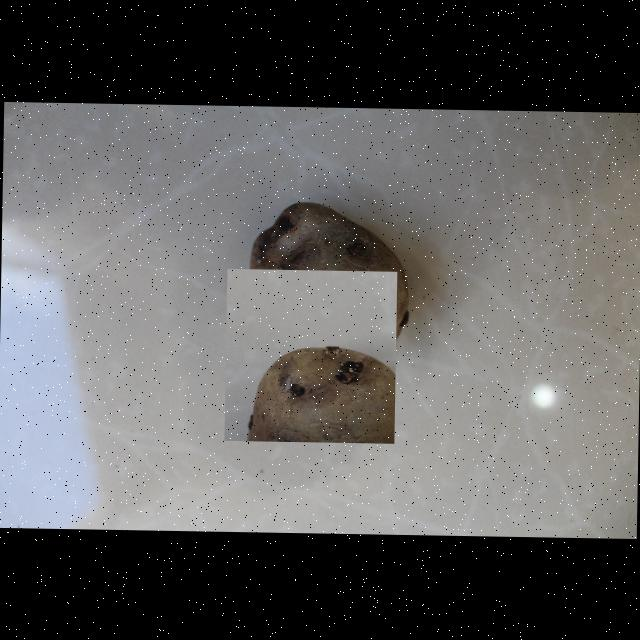Diseased-fungal potato: (224, 268, 397, 444)
